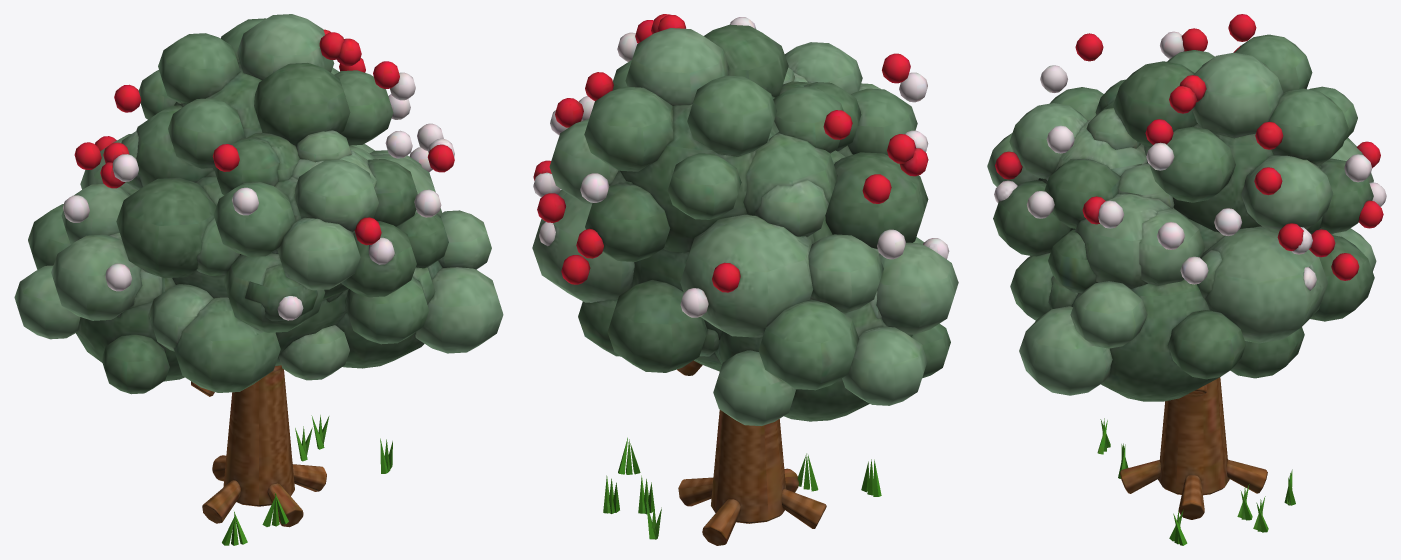
The model's file is feijoa_tree.glb.
3 views of the same model, side by side, from view 1: azimuth 30°, elevation 25°; view 2: azimuth 150°, elevation 25°; view 3: azimuth 270°, elevation 25° (orthographic). The views are drawn at different scales.
Visible parts, largest first — view 1: crown, feijoa_tree; view 2: crown, feijoa_tree; view 3: crown, feijoa_tree.
Boxes of the visible parts, x1,y1,x2,y2 form: crown: (14, 14, 503, 394); feijoa_tree: (191, 365, 392, 545); crown: (532, 14, 958, 425); feijoa_tree: (603, 360, 881, 545); crown: (987, 14, 1386, 401); feijoa_tree: (1097, 377, 1295, 545).
Bounding box in the file's own units: 1.13 × 1.26 × 0.9946.
Materials: 1 (1 with a texture image).
